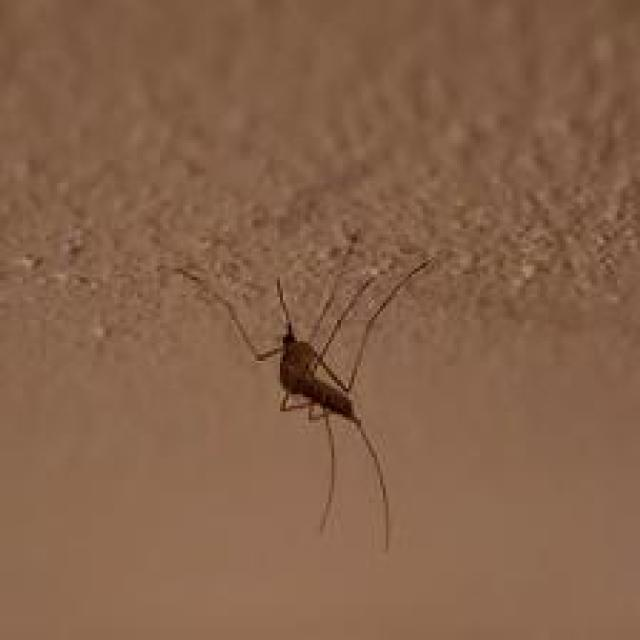Culex: (170, 224, 436, 553)
